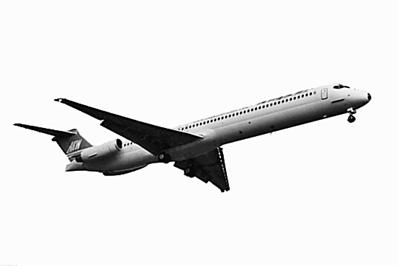airplane: (13, 80, 372, 193)
